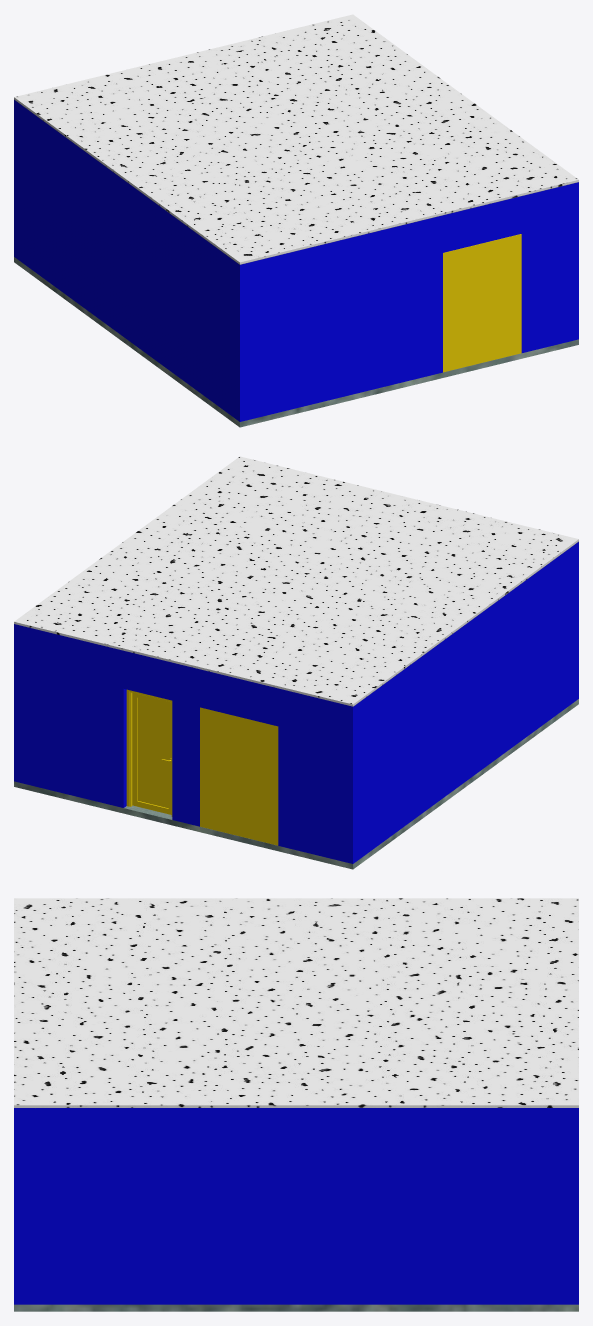
The model's file is surgery room.FBX.
3 renders of one model, top to bottom at view 1: azimuth 30°, elevation 25°; view 2: azimuth 150°, elevation 25°; view 3: azimuth 270°, elevation 25°, orthographic. The views are drawn at different scales.
Visible parts, largest first — view 1: SR_walls, SR_celling, Box002, SR_floor; view 2: SR_celling, SR_walls, Box001, polotno, SR_floor, korobka; view 3: SR_celling, SR_walls, SR_floor.
Boxes of the visible parts, x1=… form: SR_walls: x1=14, y1=100, x2=578, y2=421; SR_celling: x1=14, y1=14, x2=578, y2=264; Box002: x1=443, y1=234, x2=521, y2=372; SR_floor: x1=14, y1=257, x2=578, y2=427; SR_celling: x1=14, y1=456, x2=578, y2=706; SR_walls: x1=14, y1=542, x2=578, y2=863; Box001: x1=200, y1=707, x2=278, y2=845; polotno: x1=132, y1=693, x2=171, y2=814; SR_floor: x1=14, y1=699, x2=578, y2=869; korobka: x1=126, y1=689, x2=172, y2=816; SR_celling: x1=14, y1=898, x2=578, y2=1107; SR_walls: x1=14, y1=1108, x2=578, y2=1304; SR_floor: x1=14, y1=1304, x2=578, y2=1311.
Bounding box in the file's own units: 648 × 301 × 748.
